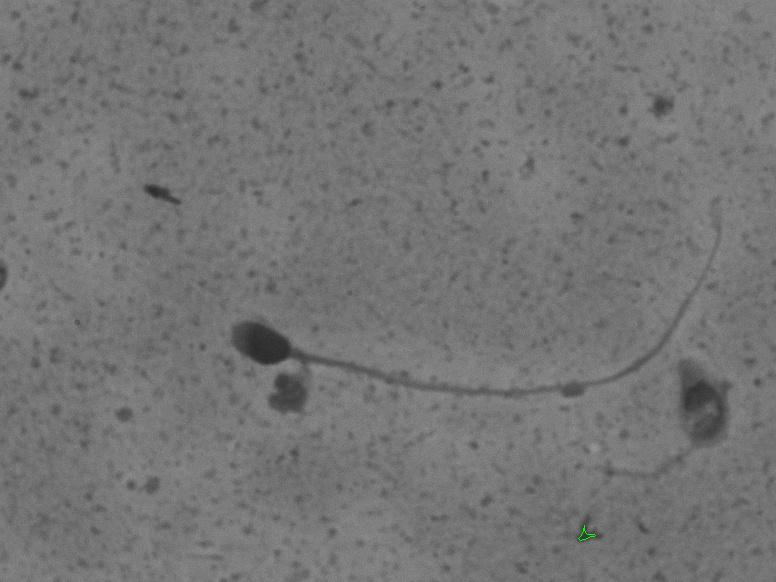Normal: (214, 188, 739, 415)
